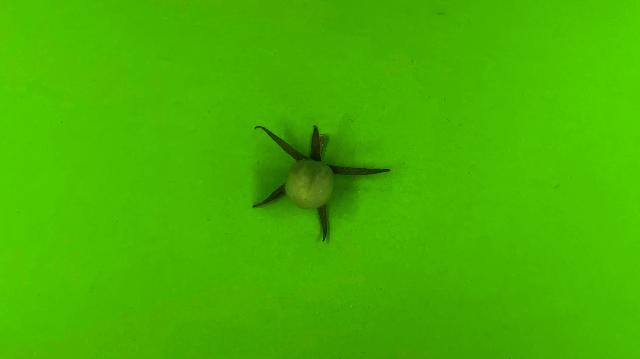Fruit Maturation: (284, 158, 336, 210)
